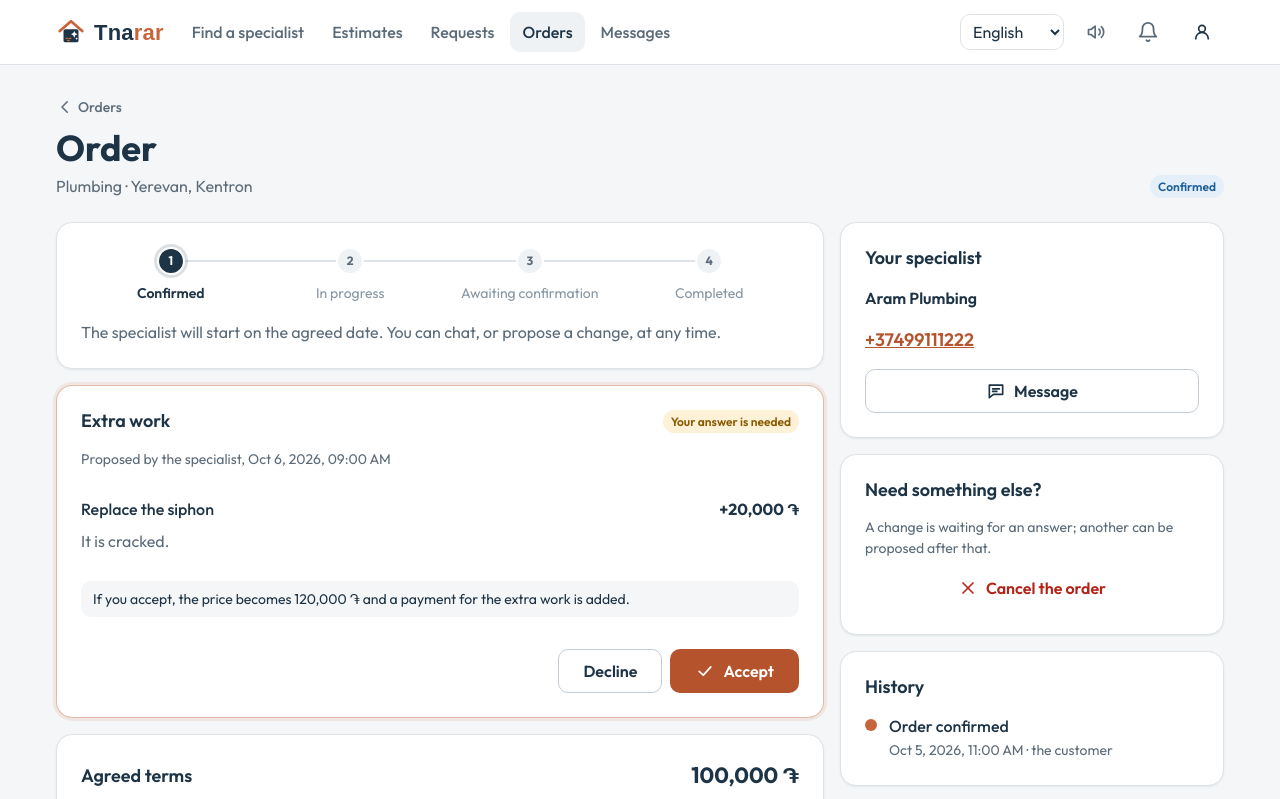
Test: Order changes › lets the customer accept extra work, which raises the price and adds a payment
Expected: the text "Your answer is needed" is shown, left=663, top=410, right=799, bottom=433
Expected: the text "+20,000 ֏" is shown, left=719, top=497, right=799, bottom=521
Click the button "Accept" at (735, 671), box left=670, top=649, right=799, bottom=693
(page scrolled)
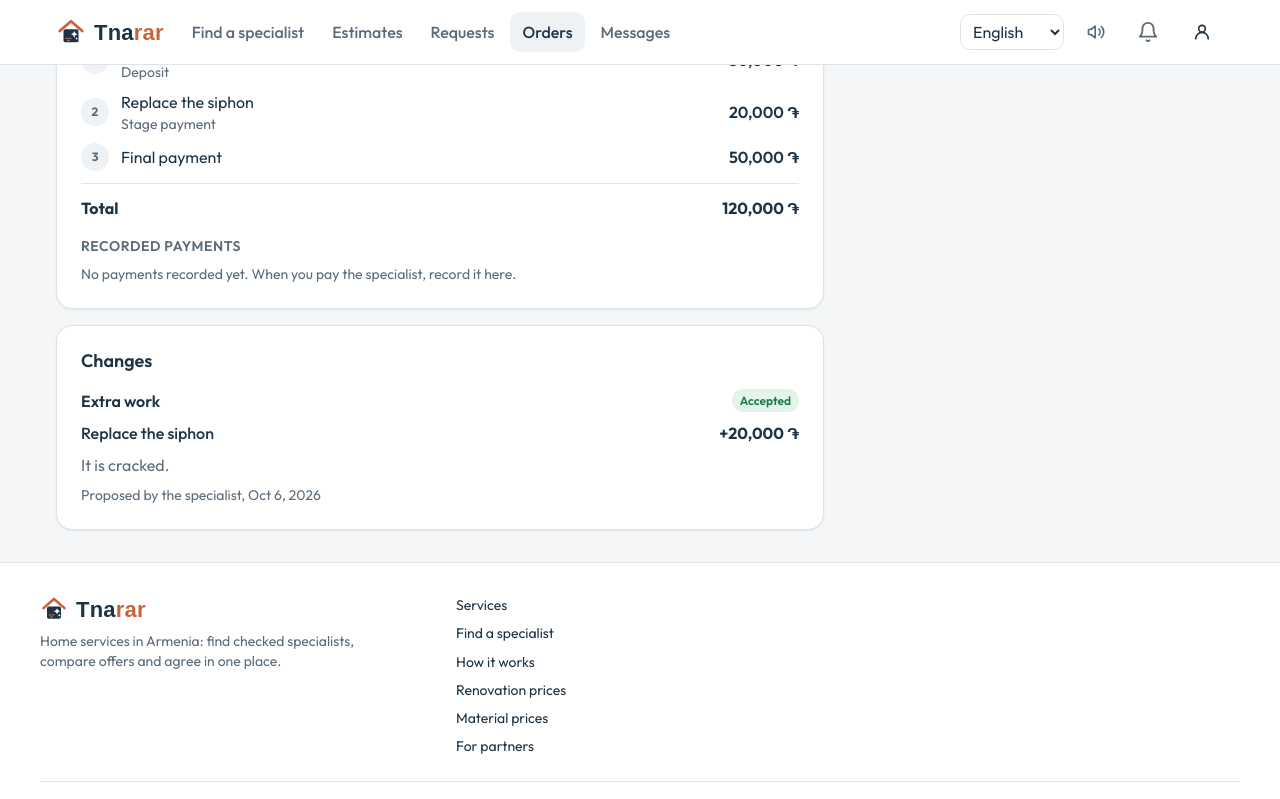
Expected: the text "120,000 ֏" is shown, left=722, top=196, right=799, bottom=220
Expected: the text "Accepted" is shown, left=732, top=389, right=799, bottom=412
